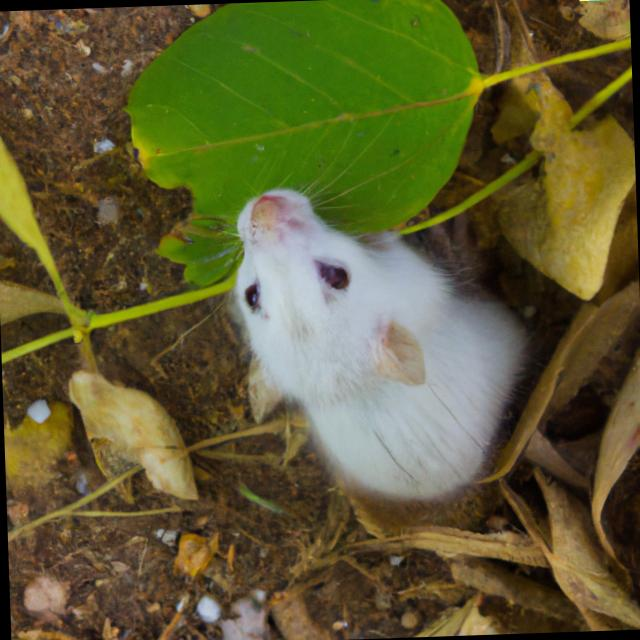rodents: (201, 162, 552, 544)
